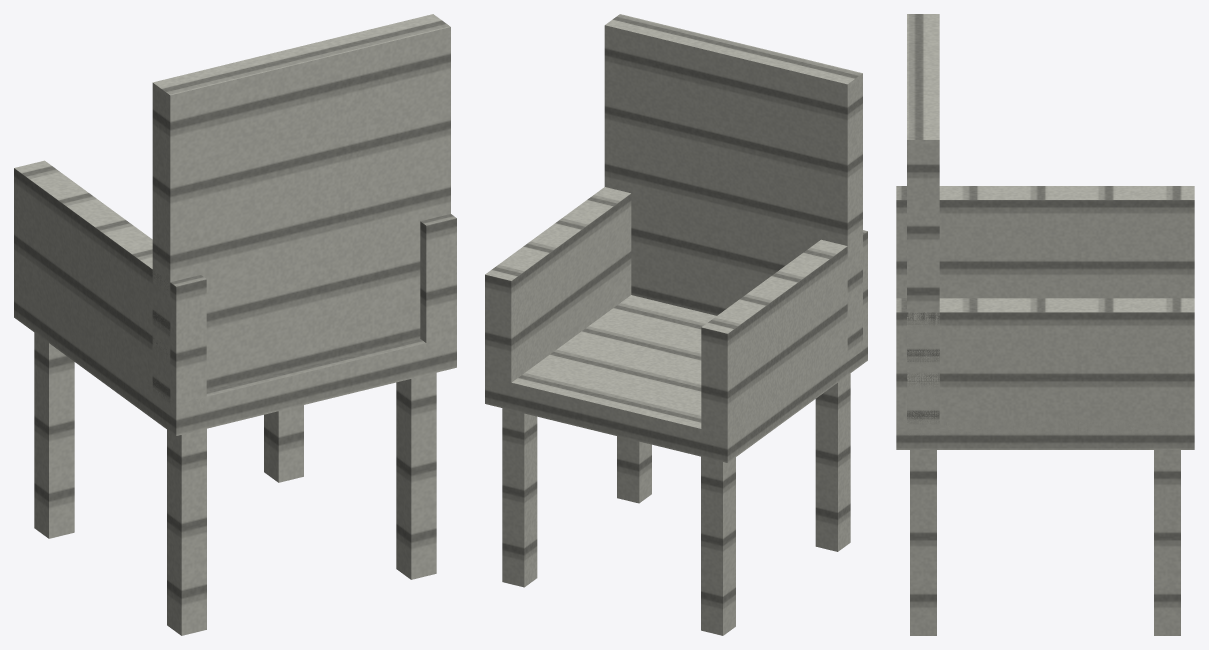
File: porch_rocking_chair.glb
3 views of the same model, side by side, from view 1: azimuth 30°, elevation 25°; view 2: azimuth 150°, elevation 25°; view 3: azimuth 270°, elevation 25° (orthographic). The views are drawn at different scales.
Visible parts, largest first — view 1: porch_rocking_chair-col; view 2: porch_rocking_chair-col; view 3: porch_rocking_chair-col.
Part boxes in pixels (box(x1,y1,x2,y2)): porch_rocking_chair-col: box(14, 14, 456, 635); porch_rocking_chair-col: box(485, 14, 867, 635); porch_rocking_chair-col: box(896, 14, 1194, 635).
Bounding box in the file's own units: 0.55 × 1.02 × 0.55.
Materials: 1 (1 with a texture image).
